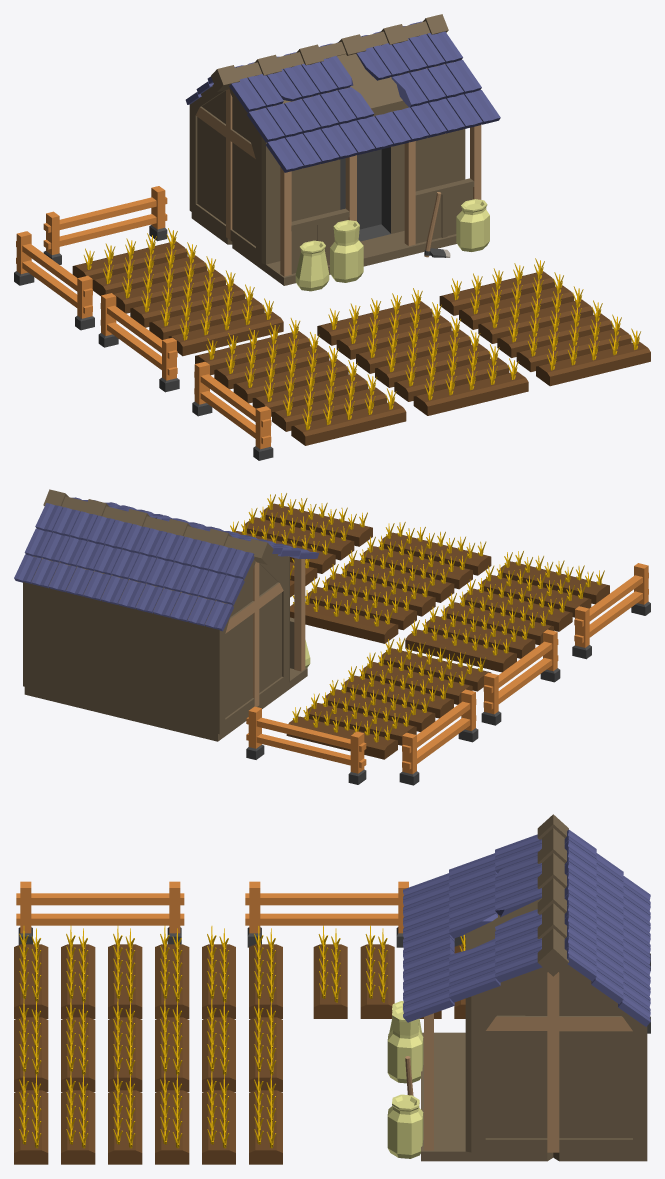
The model's file is Ladang .fbx.
The picture shows the model from 3 angles, top to bottom: view 1: azimuth 30°, elevation 25°; view 2: azimuth 150°, elevation 25°; view 3: azimuth 270°, elevation 25°; orthographic projection. The views are drawn at different scales.
Parts seen in each view (by area): view 1: Ladang; view 2: Ladang; view 3: Ladang.
Part boxes in pixels (x1=…): Ladang: x1=14, y1=14, x2=650, y2=460; Ladang: x1=14, y1=489, x2=650, y2=785; Ladang: x1=14, y1=814, x2=650, y2=1164.
Size of the model in its own units: 6.91 by 3.09 by 7.75.
